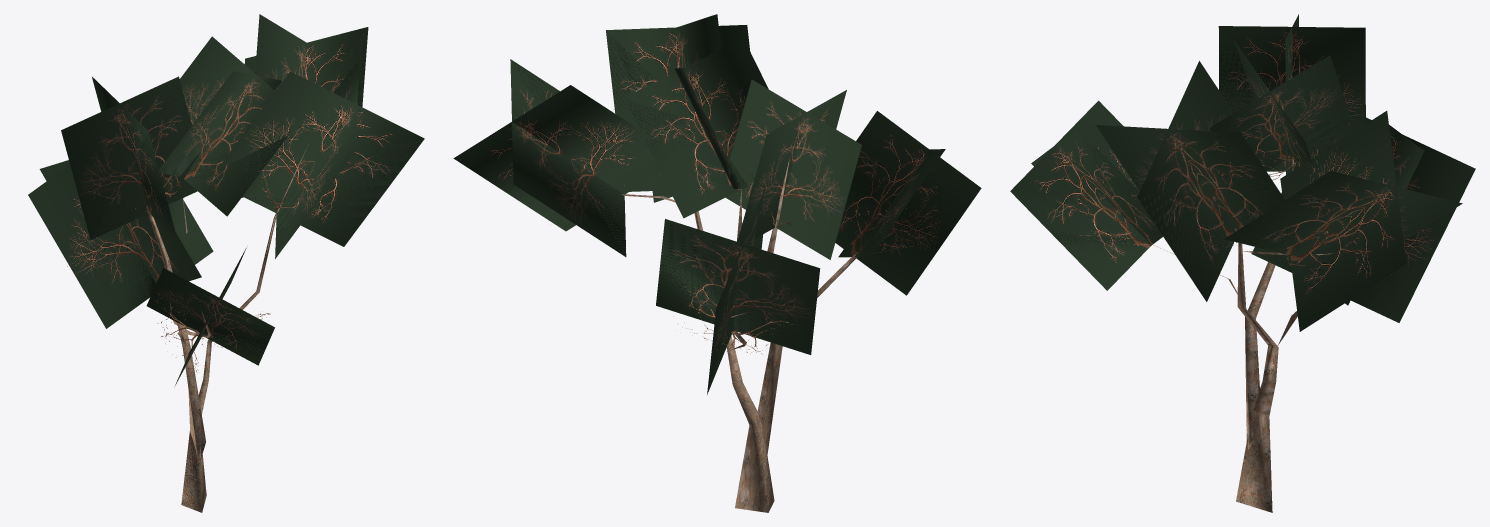
The model's file is decd_ginkgotreebranches_a1_l1.fbx.
3 renders of one model, left to right at view 1: azimuth 30°, elevation 25°; view 2: azimuth 150°, elevation 25°; view 3: azimuth 270°, elevation 25°, orthographic. The views are drawn at different scales.
Parts seen in each view (by area): view 1: mesh_node; view 2: mesh_node; view 3: mesh_node.
Boxes of the visible parts, <box> form: mesh_node: <box>28,14,424,512</box>; mesh_node: <box>453,14,981,512</box>; mesh_node: <box>1010,14,1475,512</box>.
Bounding box in the file's own units: 7.49 × 8.3 × 7.31.
3 materials, 3 textured.
